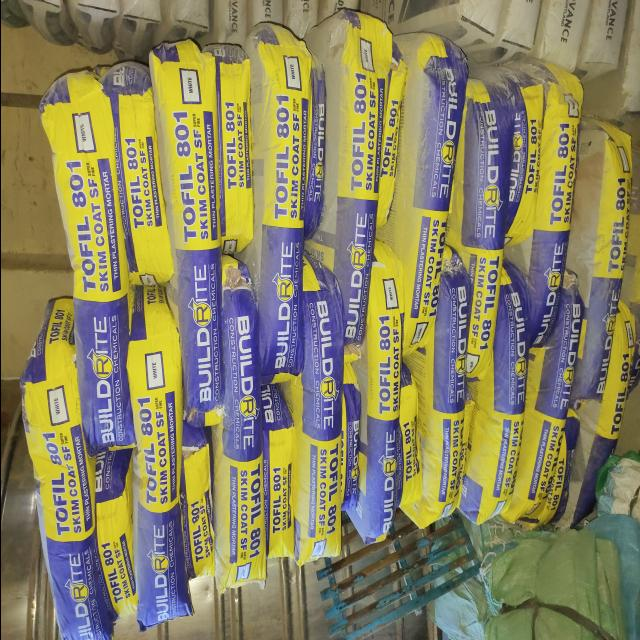Skim coat: (29, 309, 91, 640), (68, 77, 117, 447), (319, 7, 368, 347), (260, 32, 307, 384), (418, 252, 470, 529), (296, 274, 344, 567), (139, 302, 181, 624), (398, 54, 443, 354), (526, 268, 578, 522), (454, 83, 501, 360), (182, 53, 216, 421), (569, 140, 617, 398), (467, 277, 514, 538), (217, 289, 257, 593), (352, 238, 392, 541), (213, 45, 255, 253), (585, 314, 625, 532), (126, 48, 161, 297), (506, 74, 543, 248), (542, 83, 565, 349), (262, 389, 294, 565), (186, 437, 214, 581), (378, 48, 399, 233)
